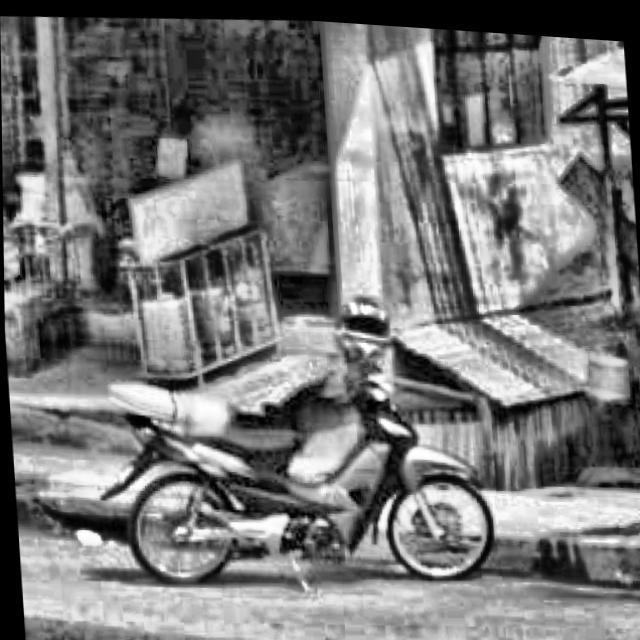motorcycle: (92, 250, 491, 612)
